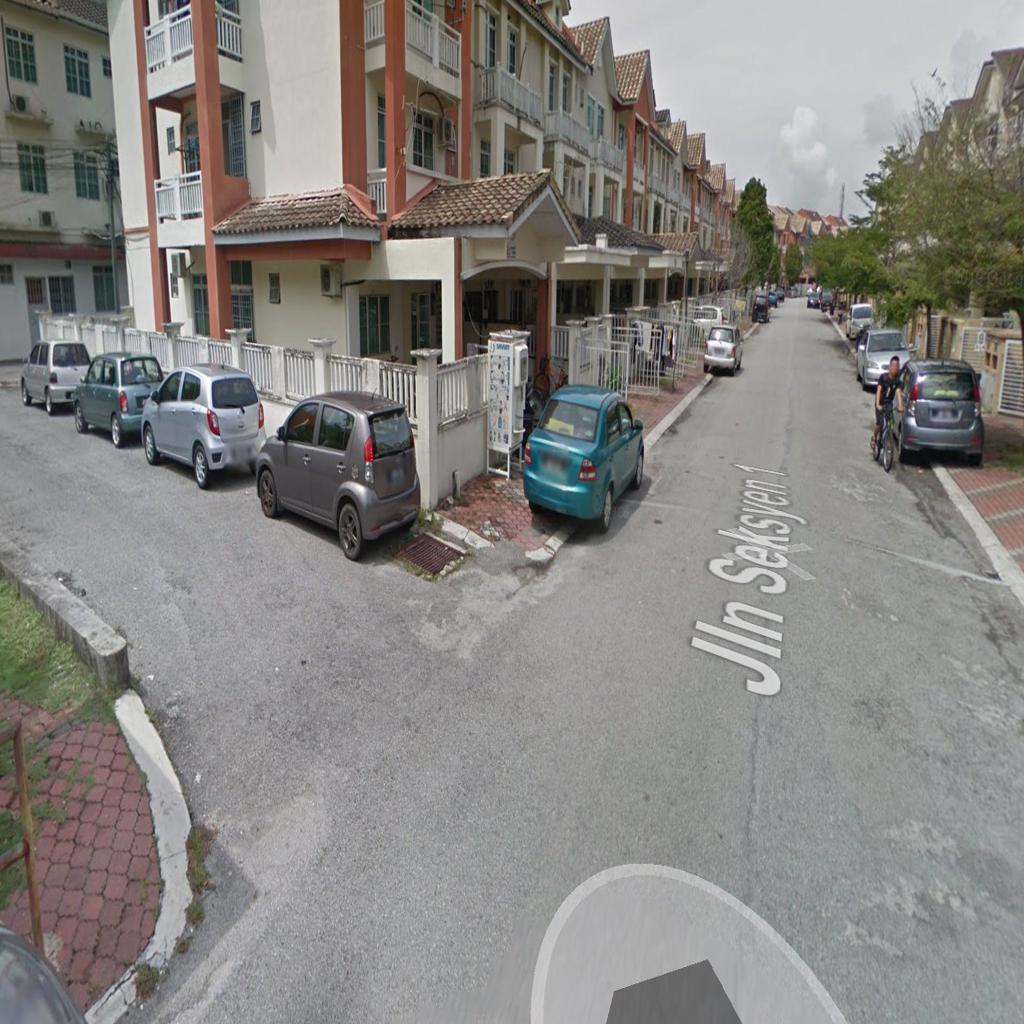Junction: (52, 486, 534, 862)
